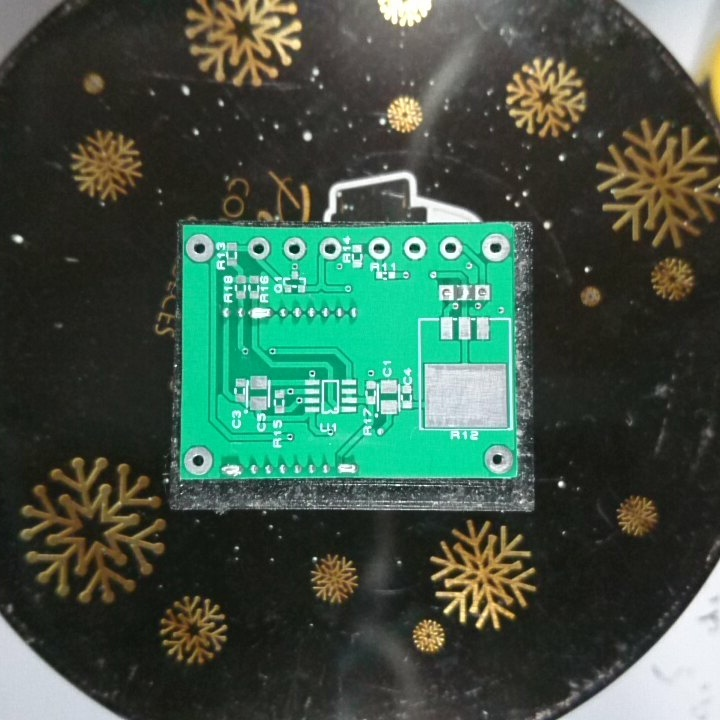F: (480, 443, 517, 475), (479, 231, 511, 265), (184, 233, 218, 265), (181, 446, 216, 475), (280, 234, 309, 263), (244, 235, 273, 263), (401, 234, 428, 262), (367, 235, 392, 260), (438, 235, 462, 260), (319, 236, 341, 262), (436, 280, 455, 306), (473, 281, 493, 304)
P: (246, 305, 274, 323), (217, 460, 245, 478), (333, 459, 361, 476)
